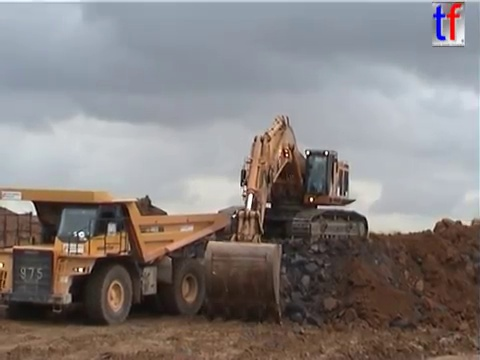excavator: (201, 112, 372, 326)
truck: (1, 184, 233, 327)
